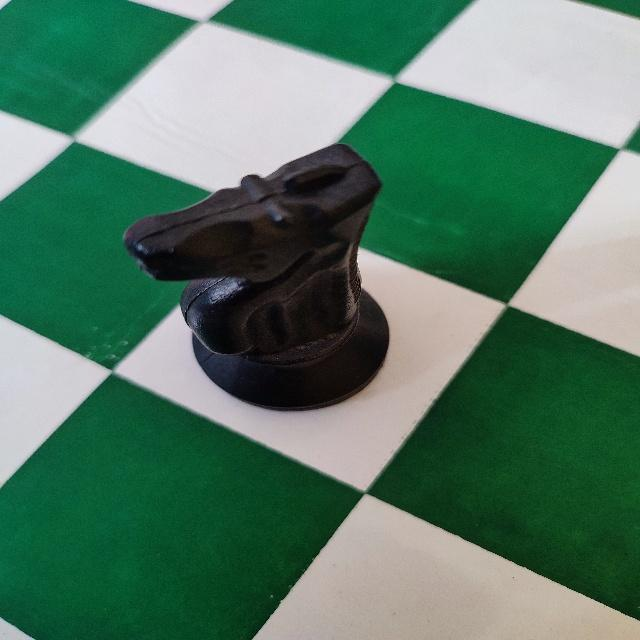Knight: (120, 139, 392, 419)
